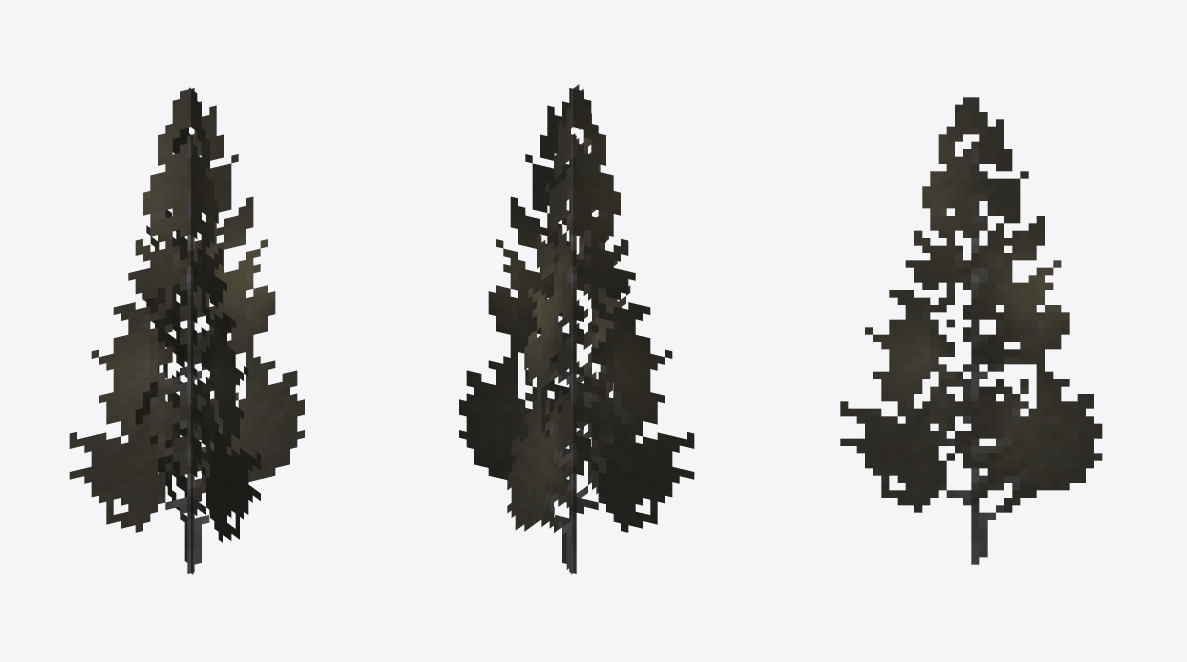
File: treePine_large.fbx
3 renders of one model, left to right at view 1: azimuth 30°, elevation 25°; view 2: azimuth 150°, elevation 25°; view 3: azimuth 270°, elevation 25°, orthographic. The views are drawn at different scales.
Visible parts, largest first — view 1: treePine_large; view 2: treePine_large; view 3: treePine_large.
Part boxes in pixels (x1=…): treePine_large: x1=69, y1=87, x2=304, y2=574; treePine_large: x1=459, y1=84, x2=694, y2=574; treePine_large: x1=840, y1=97, x2=1102, y2=564.
Bounding box in the file's own units: 13 × 17 × 13.
